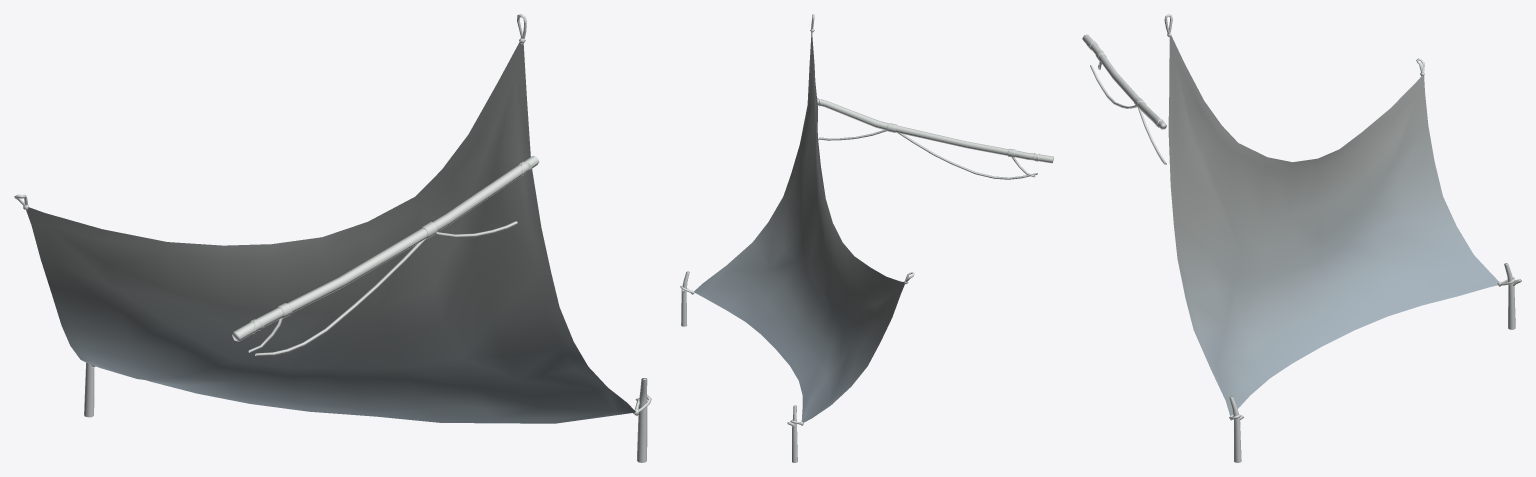
3 views of the same model, side by side, from view 1: azimuth 30°, elevation 25°; view 2: azimuth 150°, elevation 25°; view 3: azimuth 270°, elevation 25° (orthographic). The views are drawn at different scales.
Visible parts, largest first — view 1: G:\FFXIV-MapTools\exports\n4f5\bg\ex3\01_nvt_n4\fld\n4f5\bgp (×3); view 2: G:\FFXIV-MapTools\exports\n4f5\bg\ex3\01_nvt_n4\fld\n4f5\bgp (×3); view 3: G:\FFXIV-MapTools\exports\n4f5\bg\ex3\01_nvt_n4\fld\n4f5\bgp (×3).
Part boxes in pixels (left/top/right/bottom): G:\FFXIV-MapTools\exports\n4f5\bg\ex3\01_nvt_n4\fld\n4f5\bgp (×3): left=14, top=14, right=651, bottom=462; G:\FFXIV-MapTools\exports\n4f5\bg\ex3\01_nvt_n4\fld\n4f5\bgp (×3): left=680, top=14, right=1053, bottom=462; G:\FFXIV-MapTools\exports\n4f5\bg\ex3\01_nvt_n4\fld\n4f5\bgp (×3): left=1082, top=14, right=1521, bottom=462.
Bounding box in the file's own units: 12.63 × 12.19 × 12.55.
